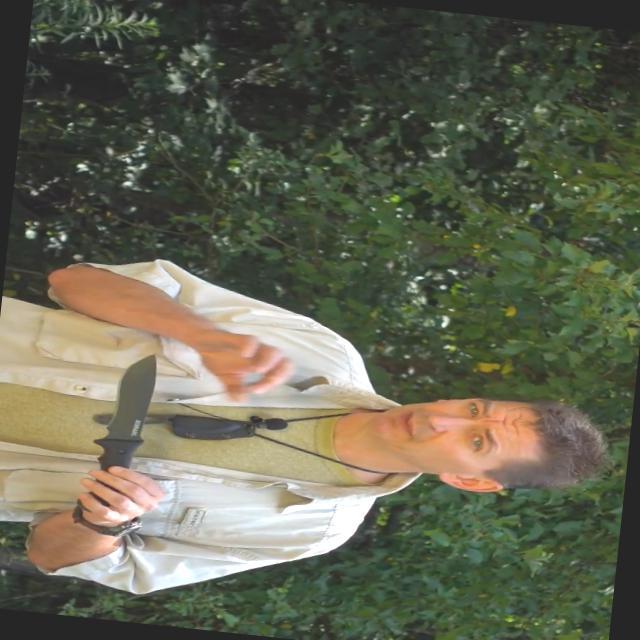knife: (70, 344, 174, 526)
